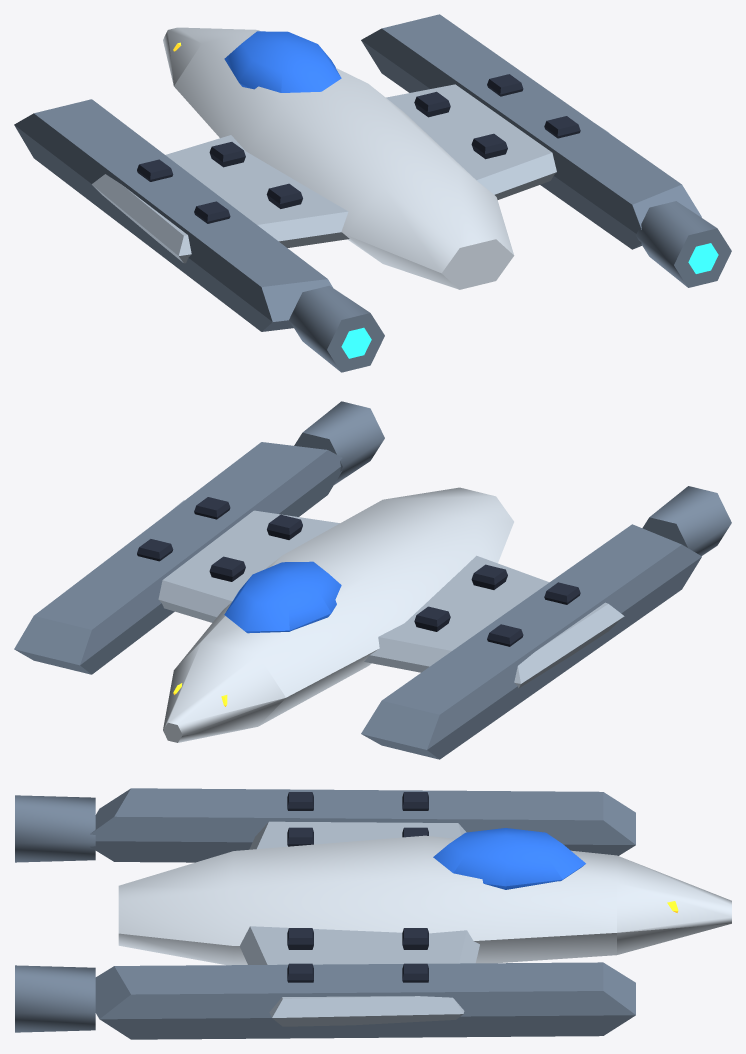
File: player_redesign_b.glb
3 views of the same model, one above another, from view 1: azimuth 30°, elevation 25°; view 2: azimuth 150°, elevation 25°; view 3: azimuth 270°, elevation 25° (orthographic).
Visible parts, largest first — view 1: REDESIGN B // BULWARK RUNNER; view 2: REDESIGN B // BULWARK RUNNER; view 3: REDESIGN B // BULWARK RUNNER.
Boxes of the visible parts, left/top/right/bottom form: REDESIGN B // BULWARK RUNNER: left=14, top=14, right=731, bottom=372; REDESIGN B // BULWARK RUNNER: left=14, top=401, right=731, bottom=759; REDESIGN B // BULWARK RUNNER: left=15, top=788, right=731, bottom=1039.
Bounding box in the file's own units: 2.7 × 0.6452 × 3.75.
